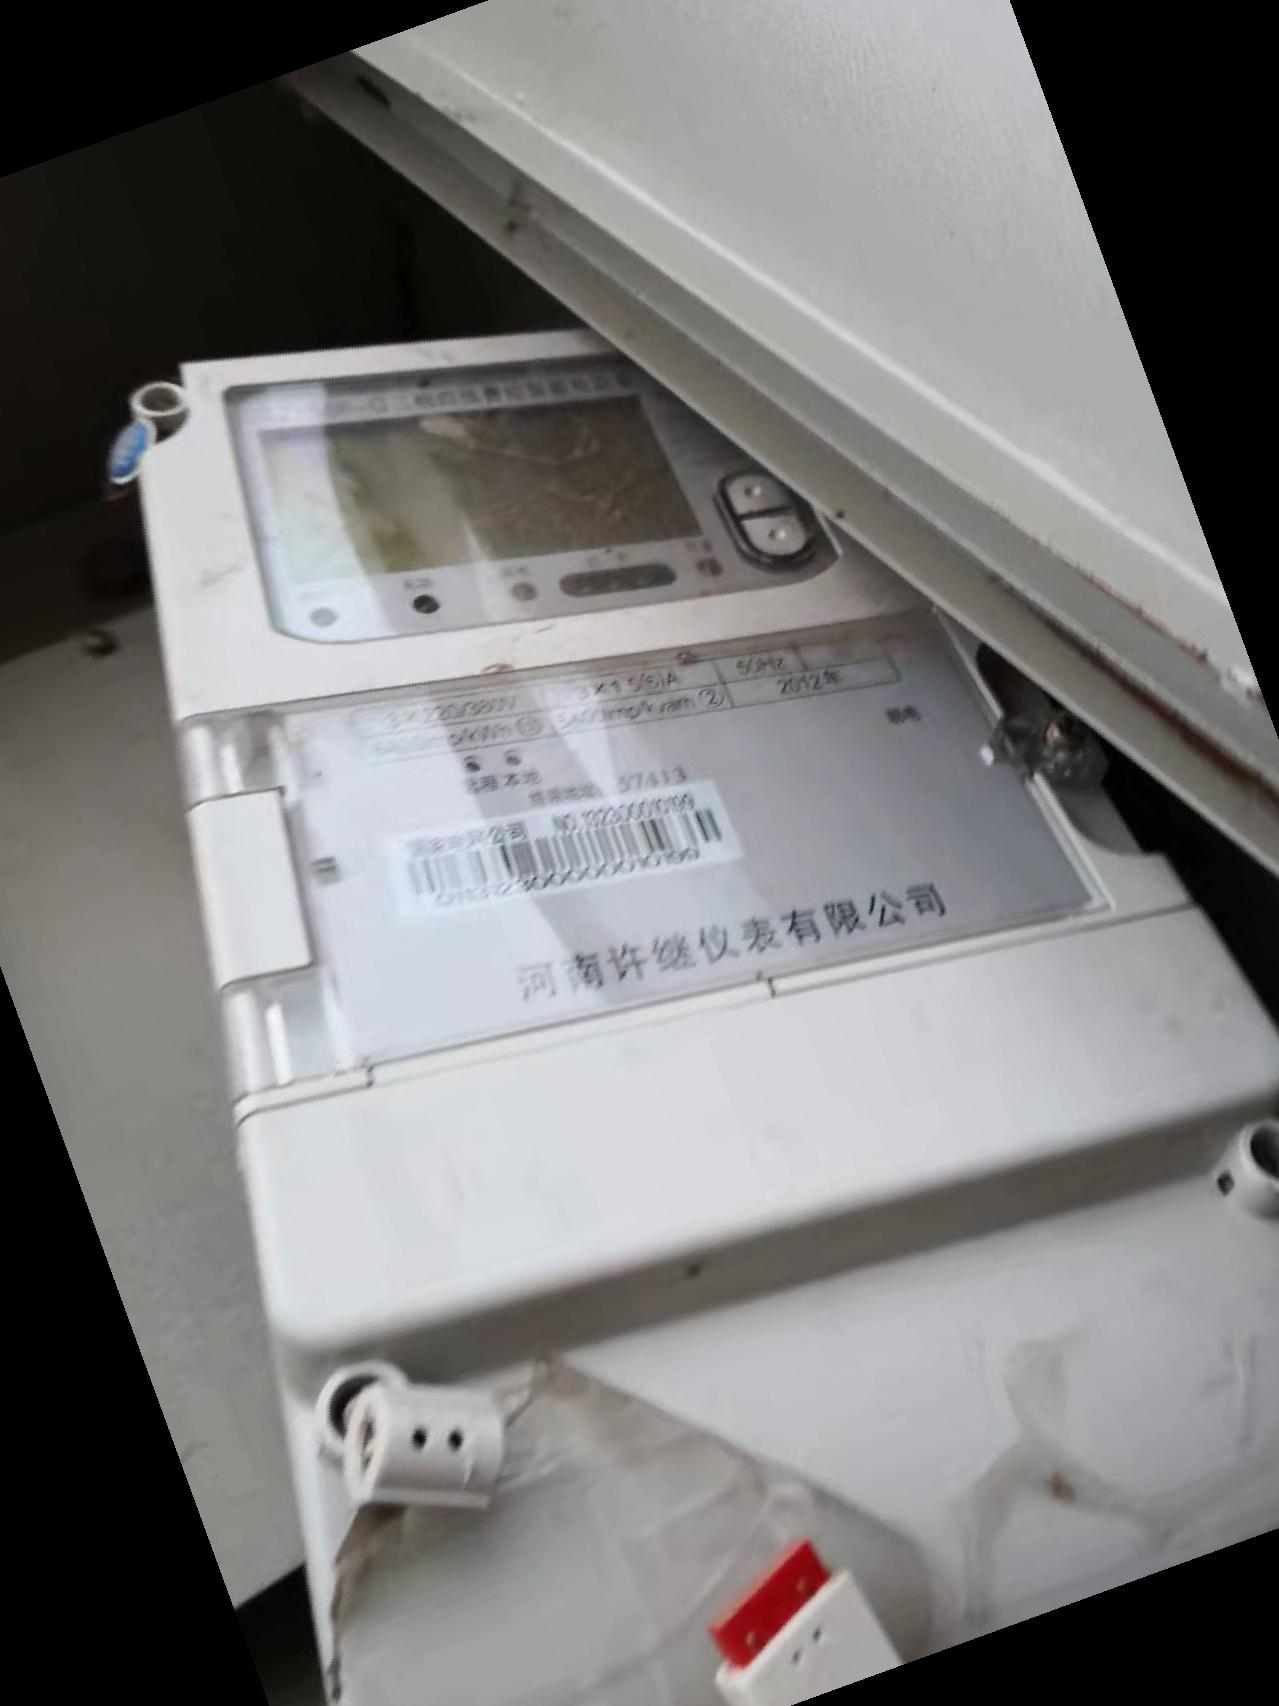digital: (134, 328, 1279, 1345)
